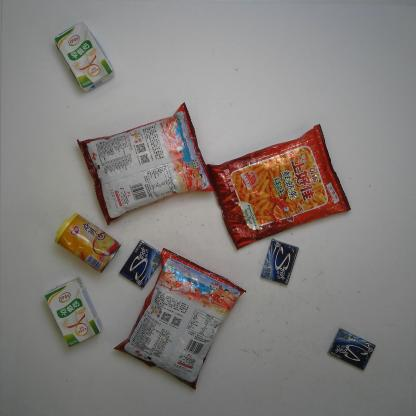Canned Food: (54, 211, 122, 275)
Gum: (119, 239, 162, 289), (328, 327, 376, 371), (260, 237, 299, 286)
Milk: (53, 21, 115, 94), (44, 278, 103, 348)
Puffed Food: (112, 248, 247, 390), (206, 123, 352, 251), (76, 102, 216, 226)
